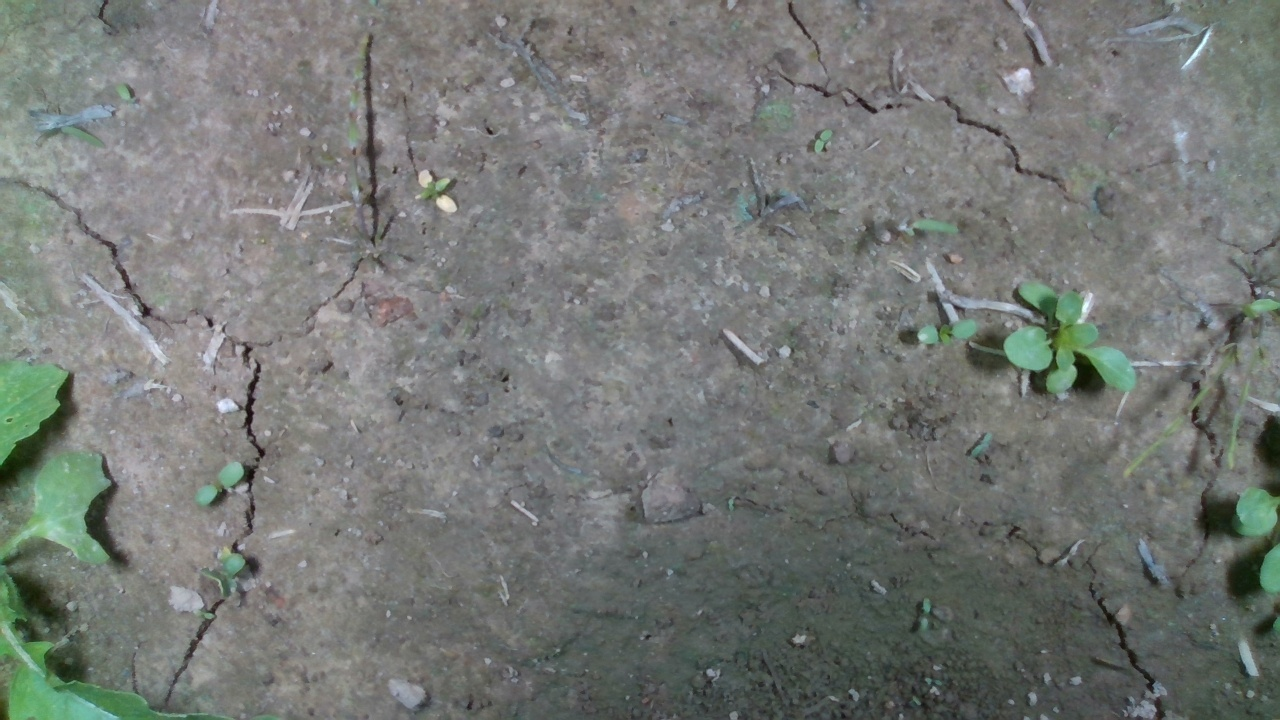weed: (196, 460, 246, 506), (412, 167, 458, 213), (915, 317, 979, 346), (812, 126, 833, 156)
